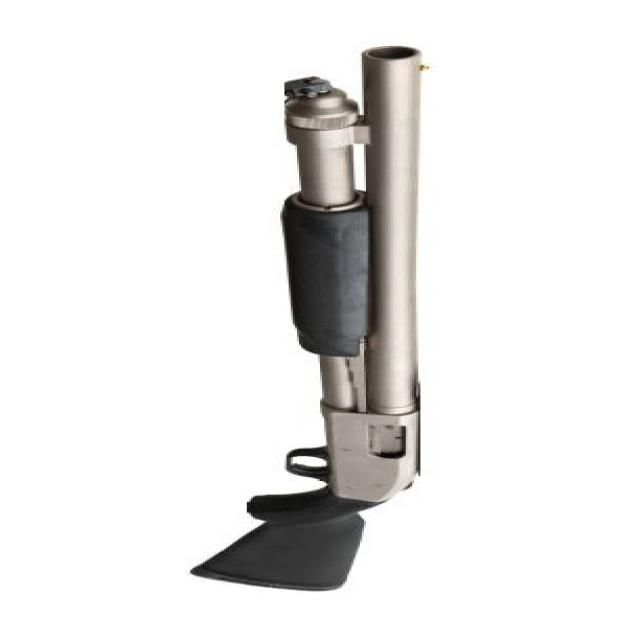rifle: (191, 33, 448, 597)
